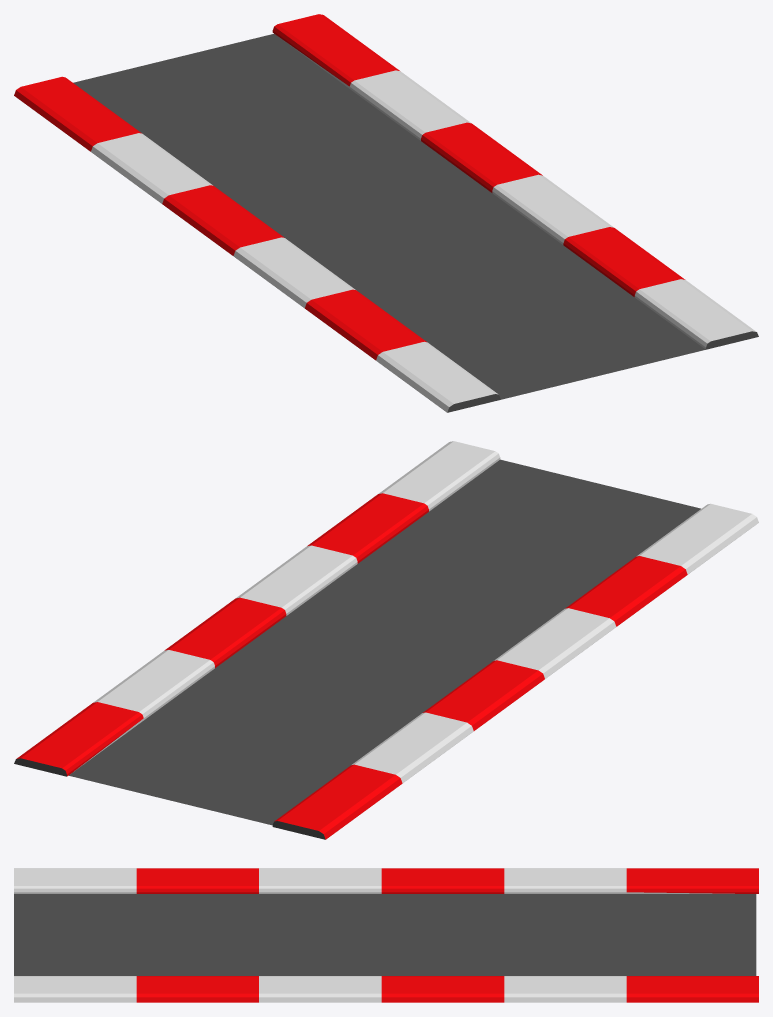
Rendered from road.fbx.
The picture shows the model from 3 angles, top to bottom: view 1: azimuth 30°, elevation 25°; view 2: azimuth 150°, elevation 25°; view 3: azimuth 270°, elevation 25°; orthographic projection. The views are drawn at different scales.
Visible parts, largest first — view 1: Plane; view 2: Plane; view 3: Plane.
Part boxes in pixels (left/top/right/bottom): Plane: left=14, top=14, right=758, bottom=412; Plane: left=14, top=441, right=758, bottom=839; Plane: left=14, top=868, right=758, bottom=1002.
Bounding box in the file's own units: 303 × 6.72 × 729.
